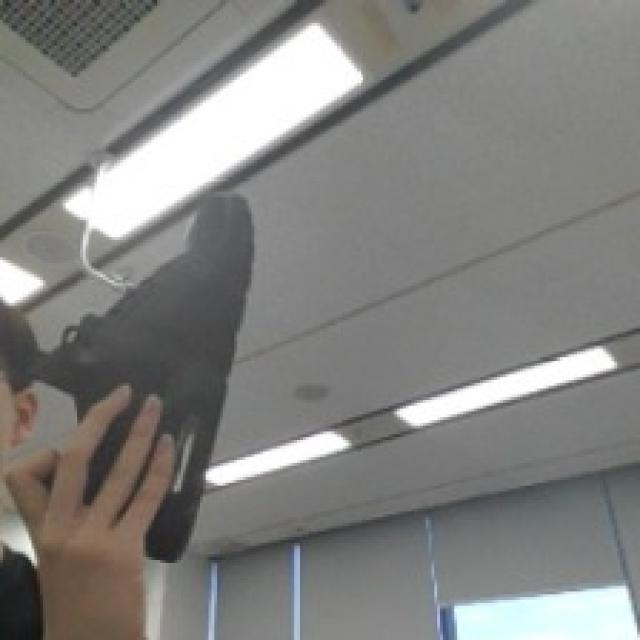shoe: (47, 187, 258, 567)
